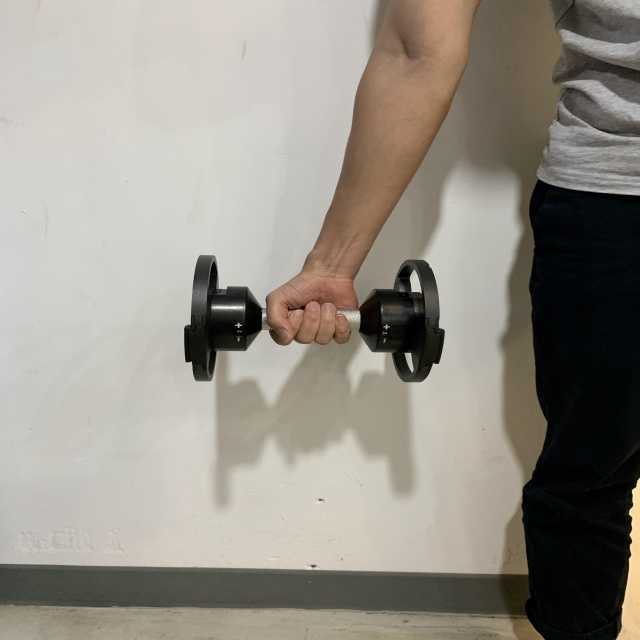01-2kg: (185, 249, 446, 384)
